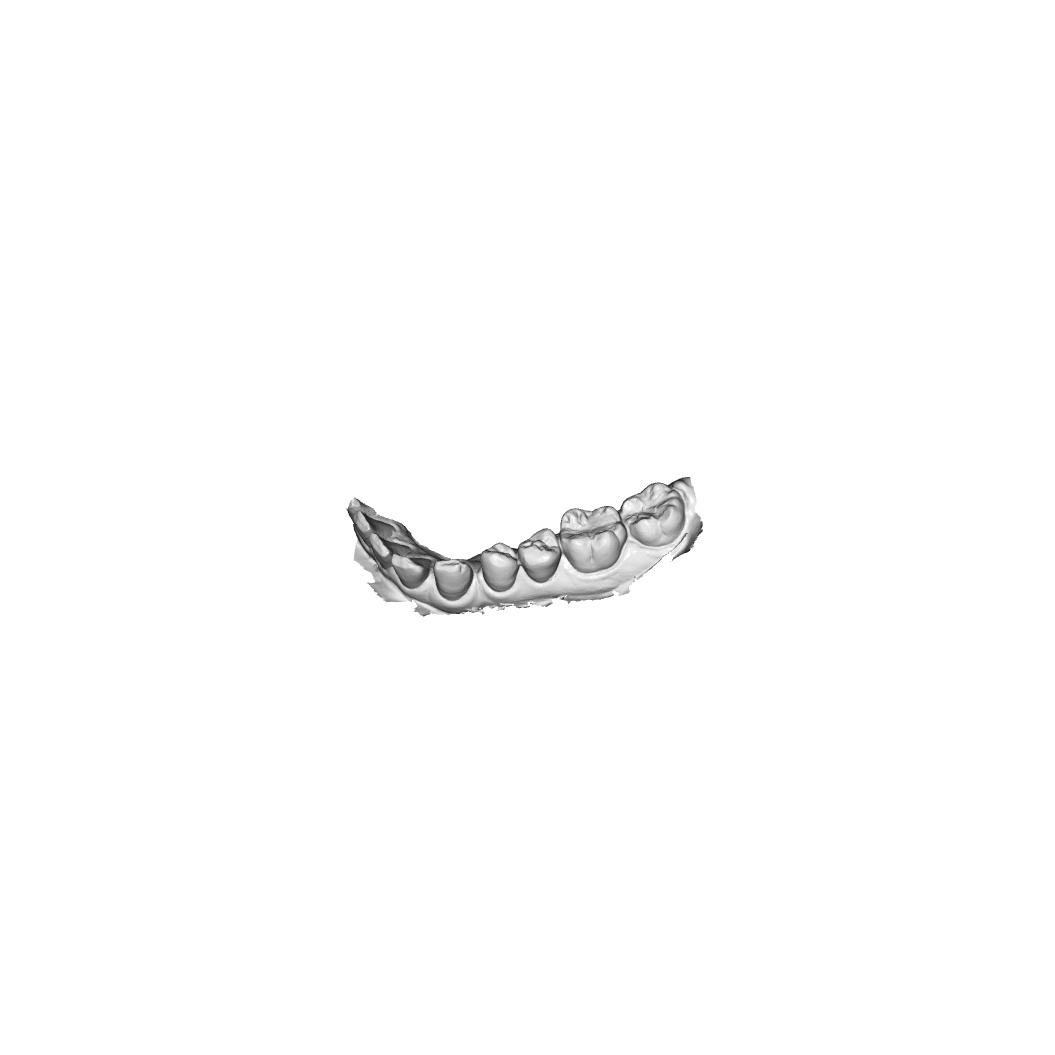canine: (432, 557, 474, 602)
incisor: (390, 552, 432, 590), (352, 510, 396, 544), (369, 532, 405, 569)
molar: (558, 505, 628, 574), (618, 481, 685, 548)
premolar: (518, 527, 561, 585), (475, 541, 520, 594)
